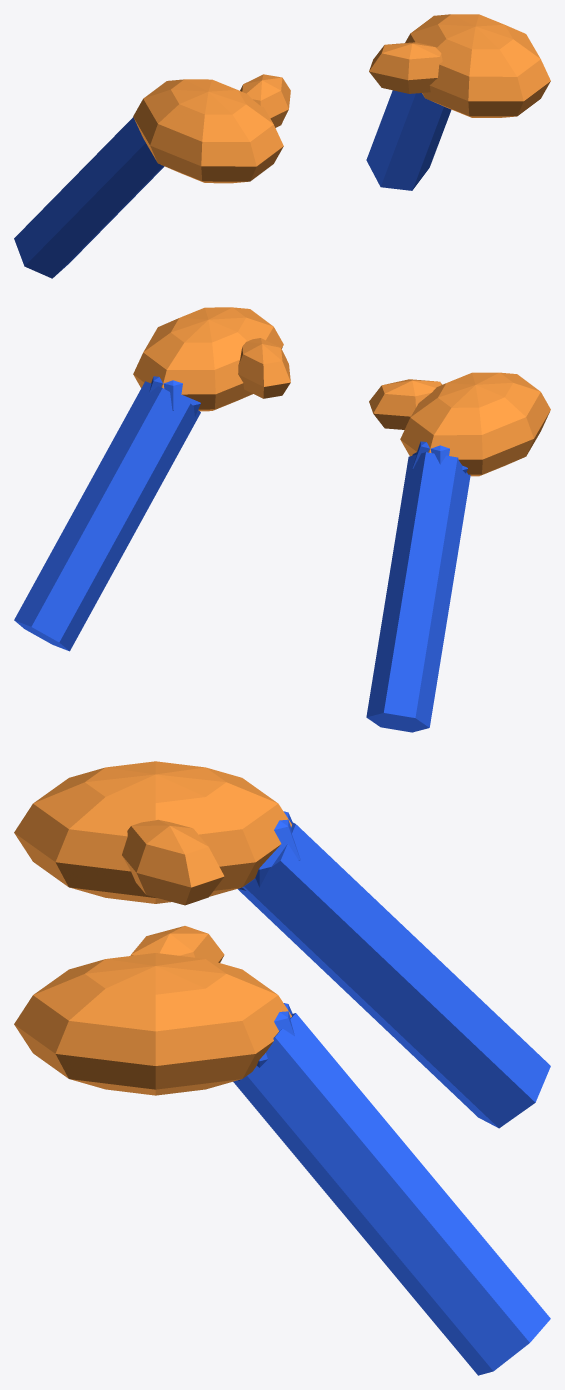
Rendered from cop_hands_1.glb.
The picture shows the model from 3 angles, top to bottom: view 1: azimuth 30°, elevation 25°; view 2: azimuth 150°, elevation 25°; view 3: azimuth 270°, elevation 25°; orthographic projection. The views are drawn at different scales.
Visible parts, largest first — view 1: hand_skin_naranja, arms_shirt; view 2: arms_shirt, hand_skin_naranja; view 3: arms_shirt, hand_skin_naranja.
Boxes of the visible parts, left/top/right/bottom form: hand_skin_naranja: left=133, top=14, right=550, bottom=183; arms_shirt: left=14, top=90, right=451, bottom=278; arms_shirt: left=14, top=376, right=470, bottom=732; hand_skin_naranja: left=133, top=307, right=550, bottom=476; arms_shirt: left=233, top=811, right=550, bottom=1375; hand_skin_naranja: left=14, top=761, right=291, bottom=1095.
Bounding box in the file's own units: 0.7283 × 0.4397 × 0.5685.
